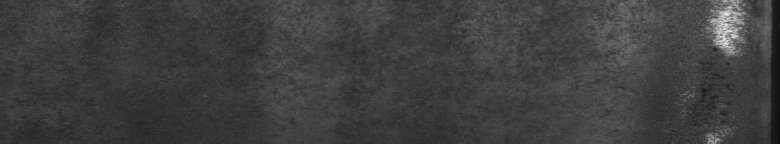kb: (676, 4, 746, 136)
